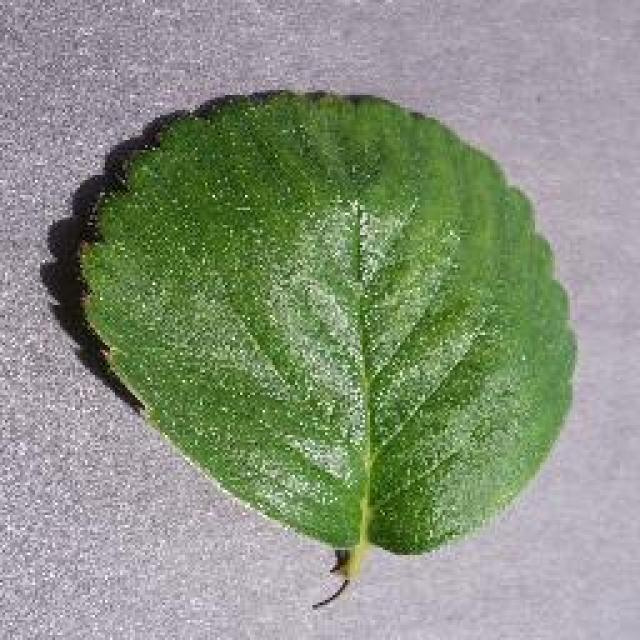Strawberry___healthy: (63, 72, 585, 622)
